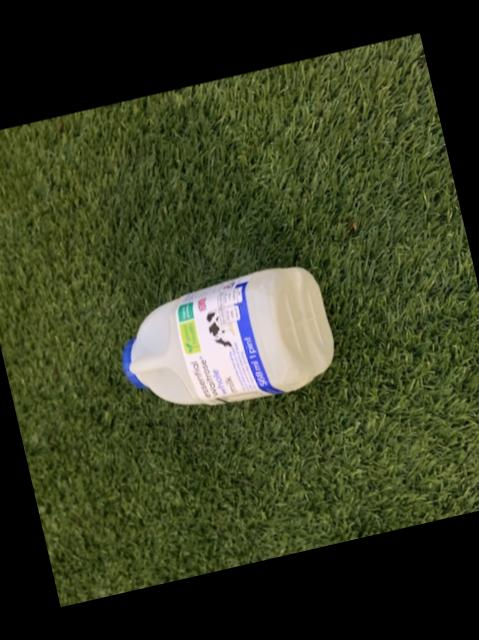plastic: (119, 269, 330, 406)
